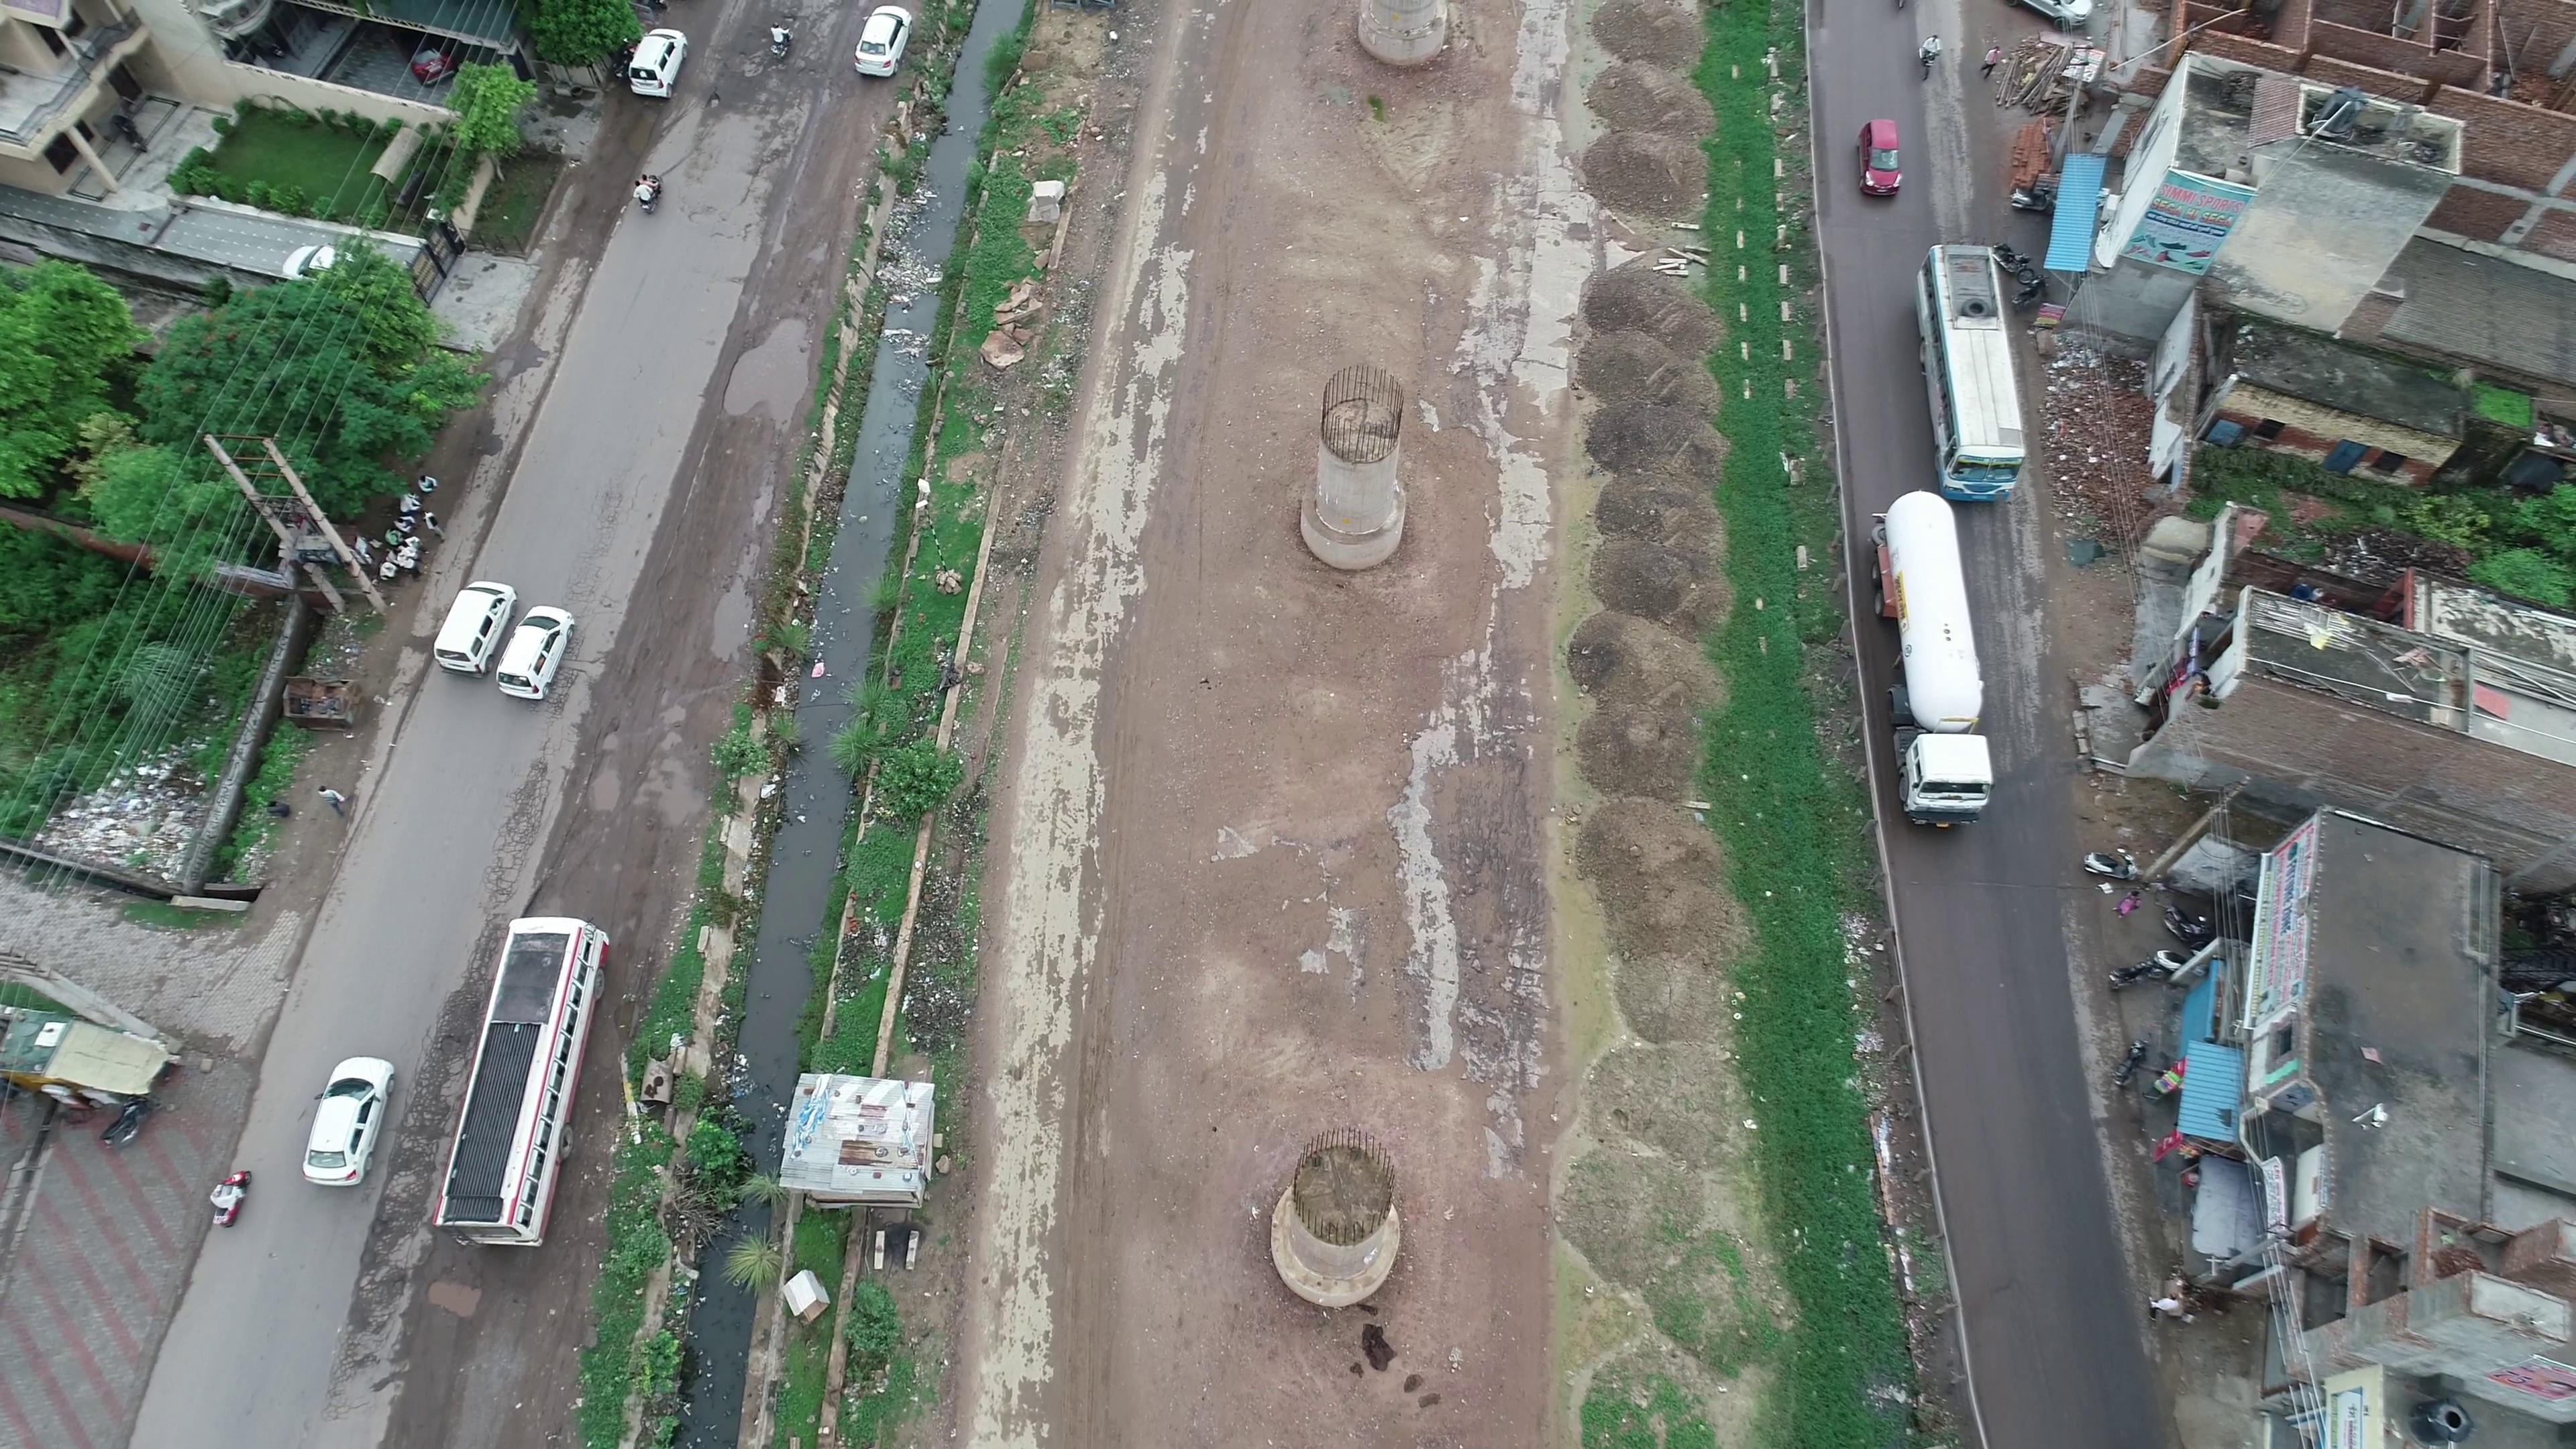Alligator_cracks: (474, 740, 564, 908)
Potholes: (333, 1194, 410, 1274)
